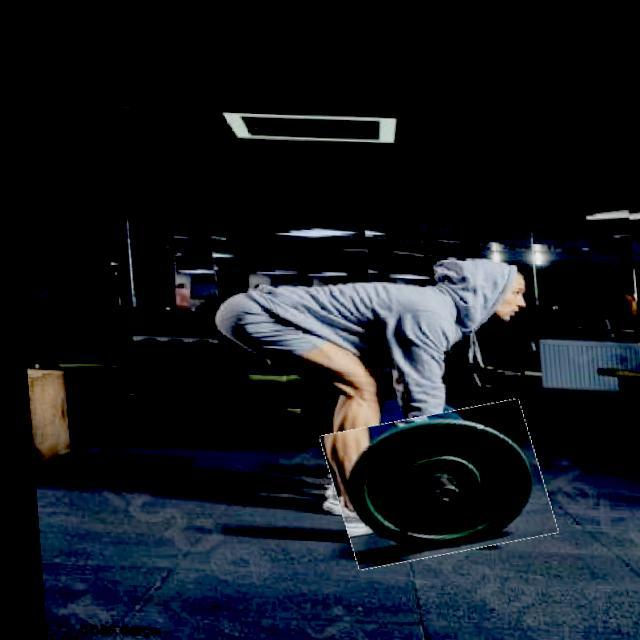barbell: (317, 400, 547, 565)
